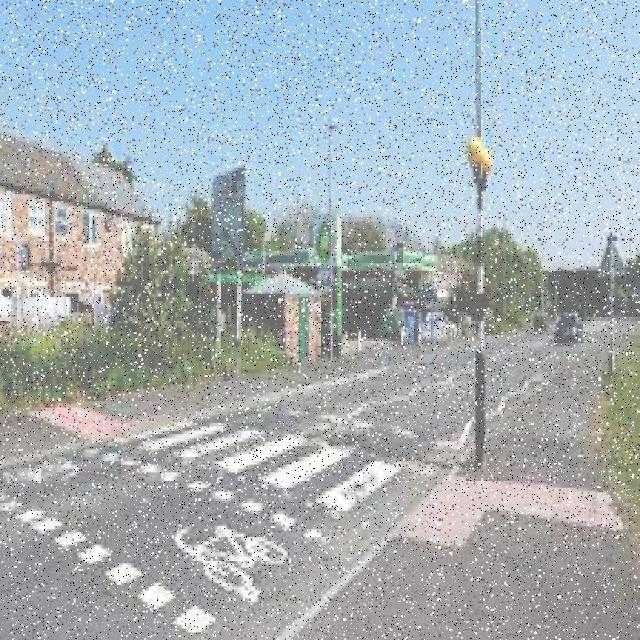crosswalk: (115, 420, 407, 538)
